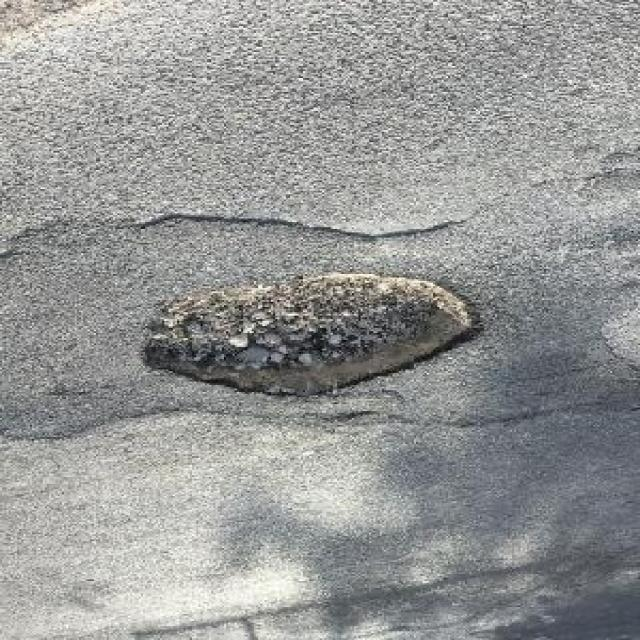pothole: (138, 272, 500, 398)
